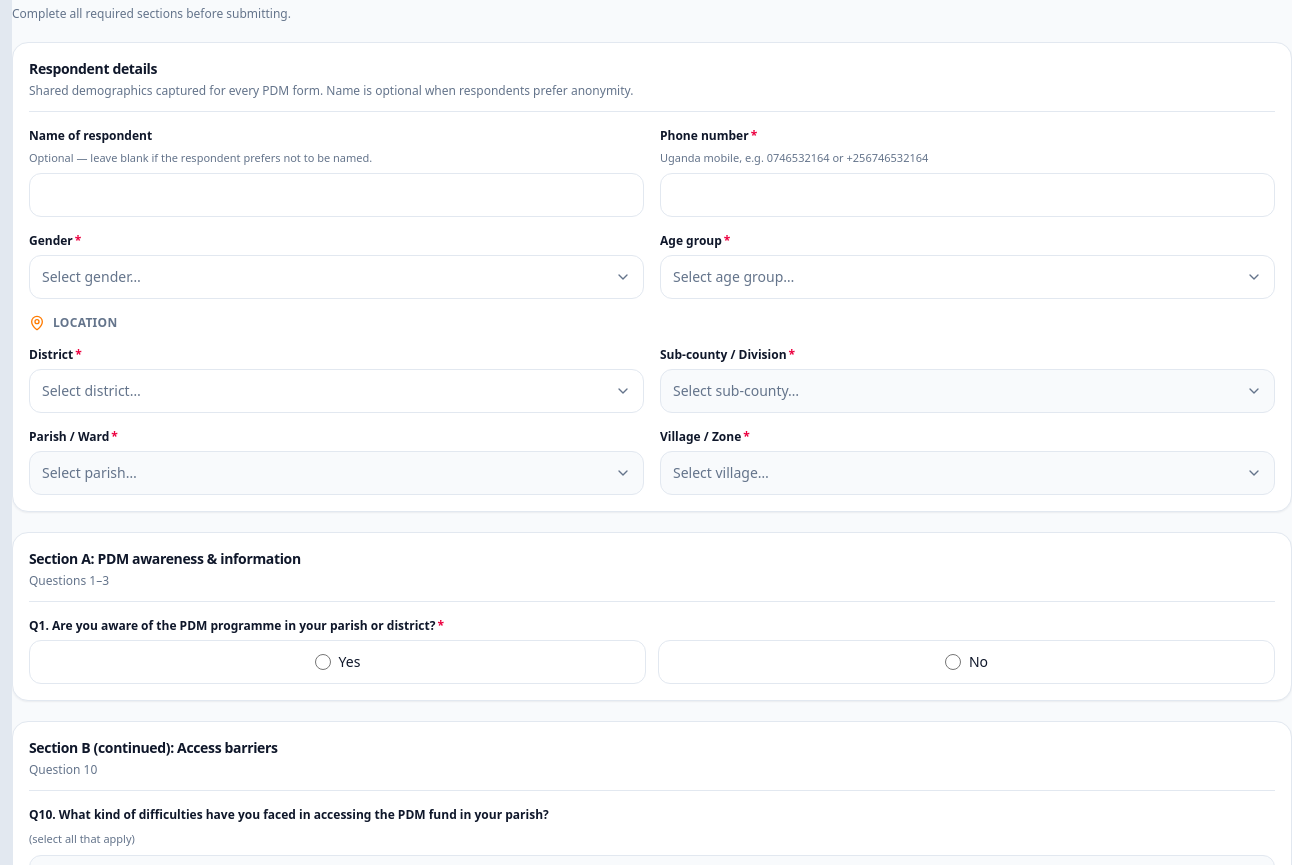
Test case: IypForm › Q6 = No shows Q9, hides Q7/Q8 (TC-FORM-03-02)
Click the radio button with id "awareOfPdm-yes". click: (323, 662)
box: top-left (315, 654), bottom-right (331, 670)
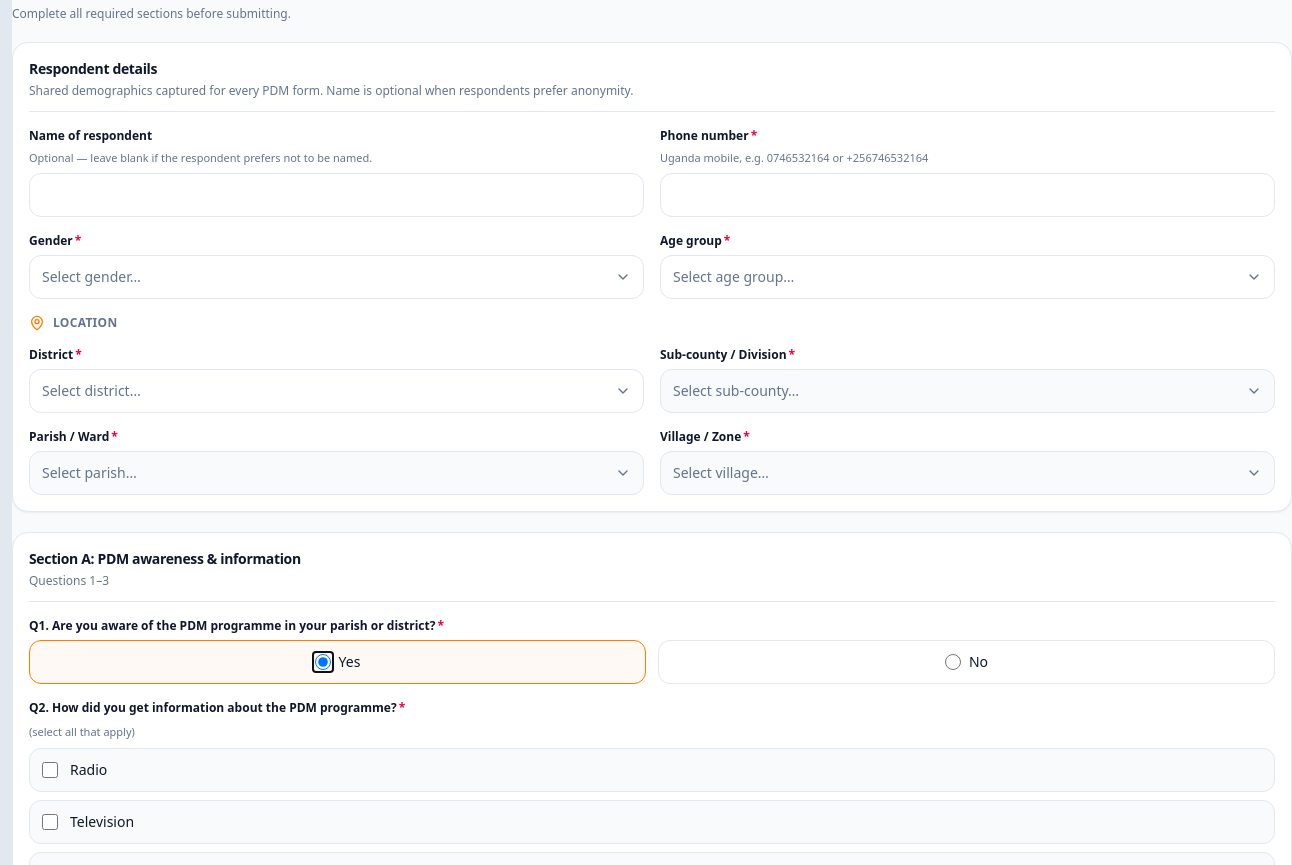
Click the checkbox labelled "Radio". click: (50, 770)
box: top-left (42, 762), bottom-right (58, 778)
(page scrolled)
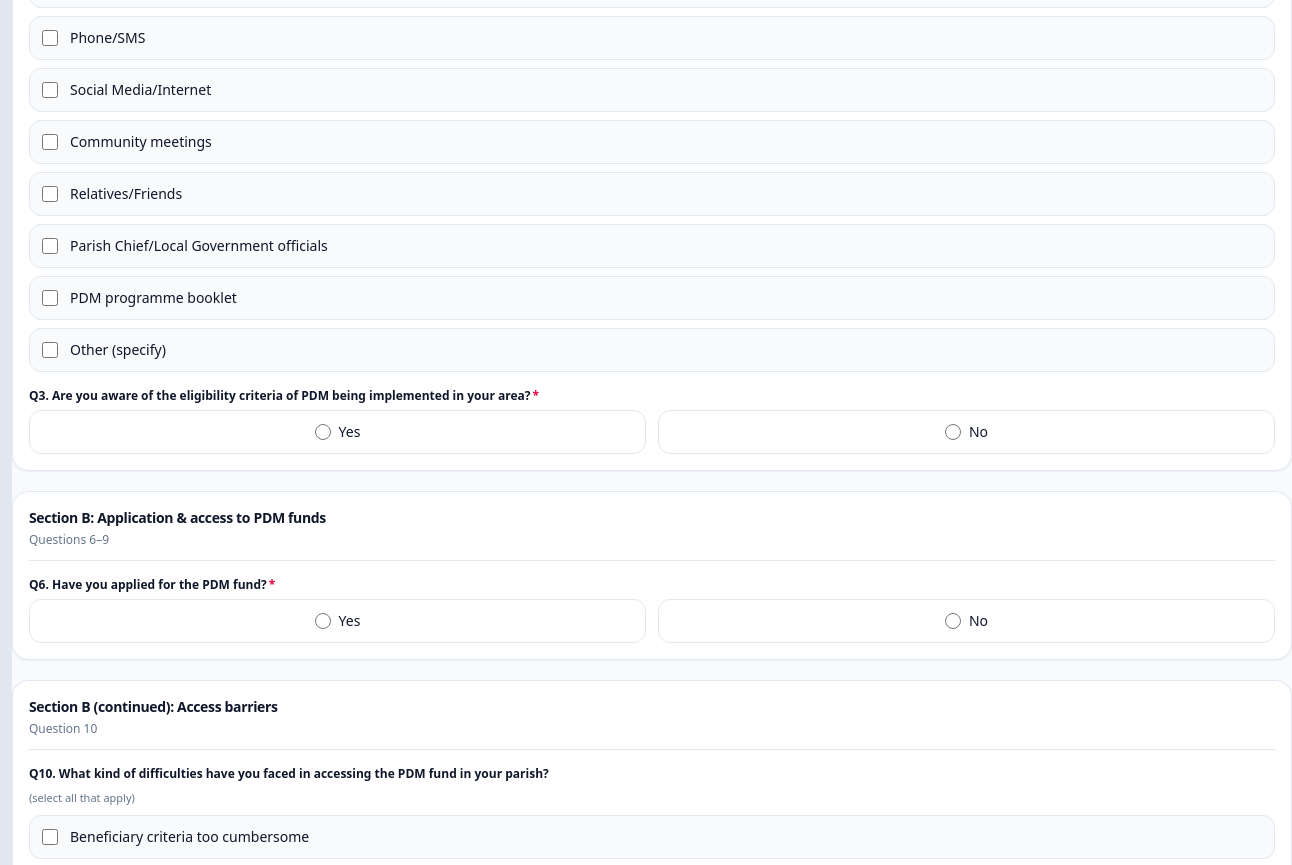
Click the 1st radio button. click: (323, 432)
box: top-left (315, 424), bottom-right (331, 440)
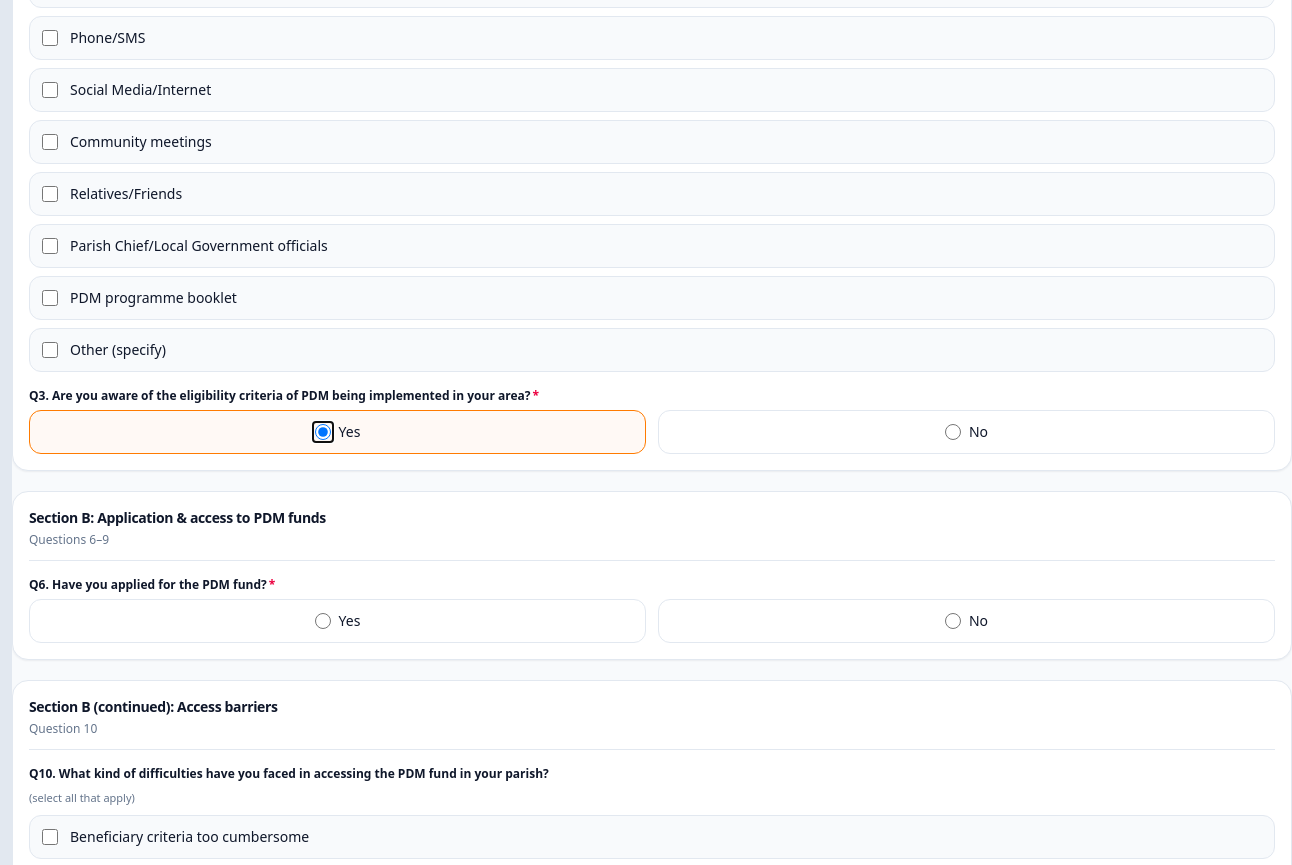
Click the radio button with id "appliedForFund-no". click: (953, 621)
box: top-left (945, 613), bottom-right (961, 629)
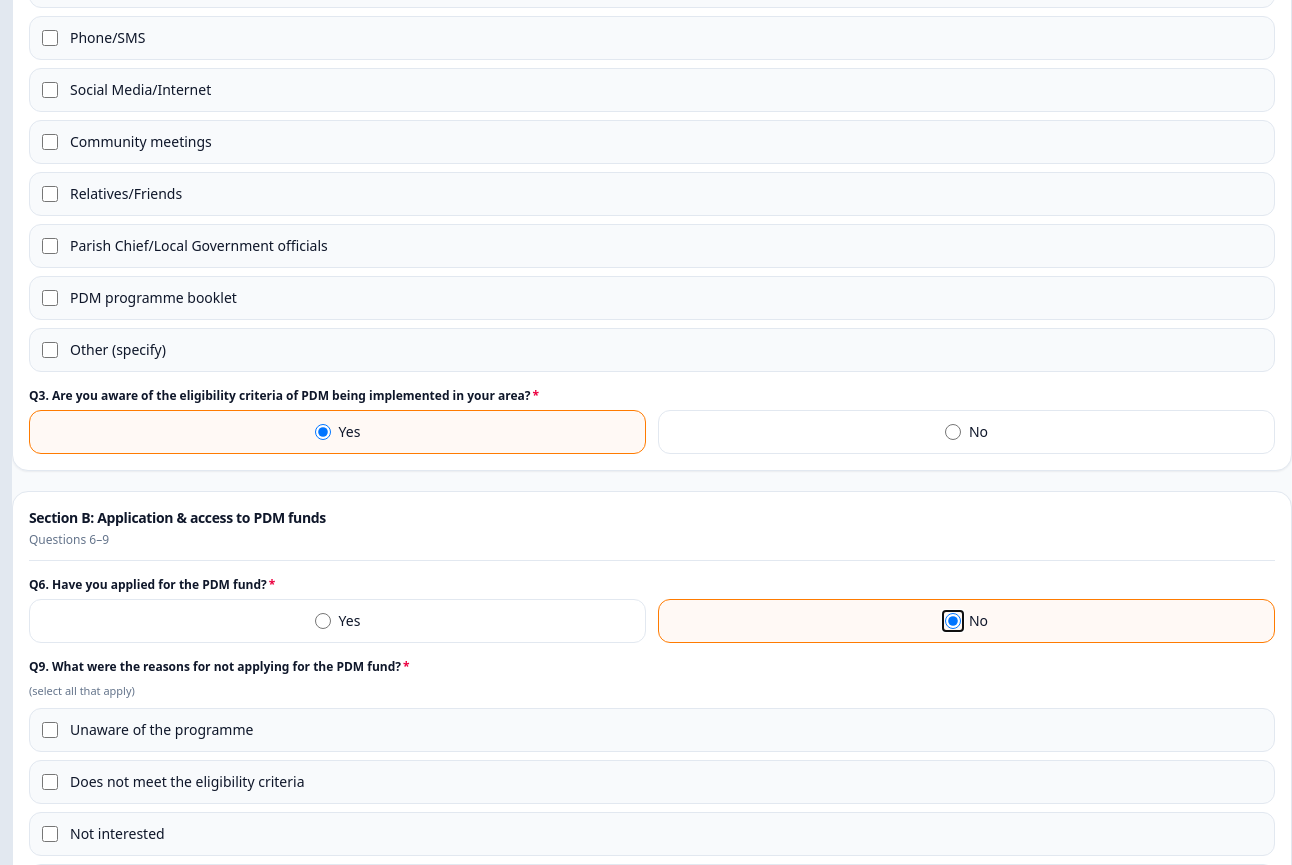
Result: the text "Q9. What were the reasons for not applying" is shown at top-left (29, 658), bottom-right (401, 675)
